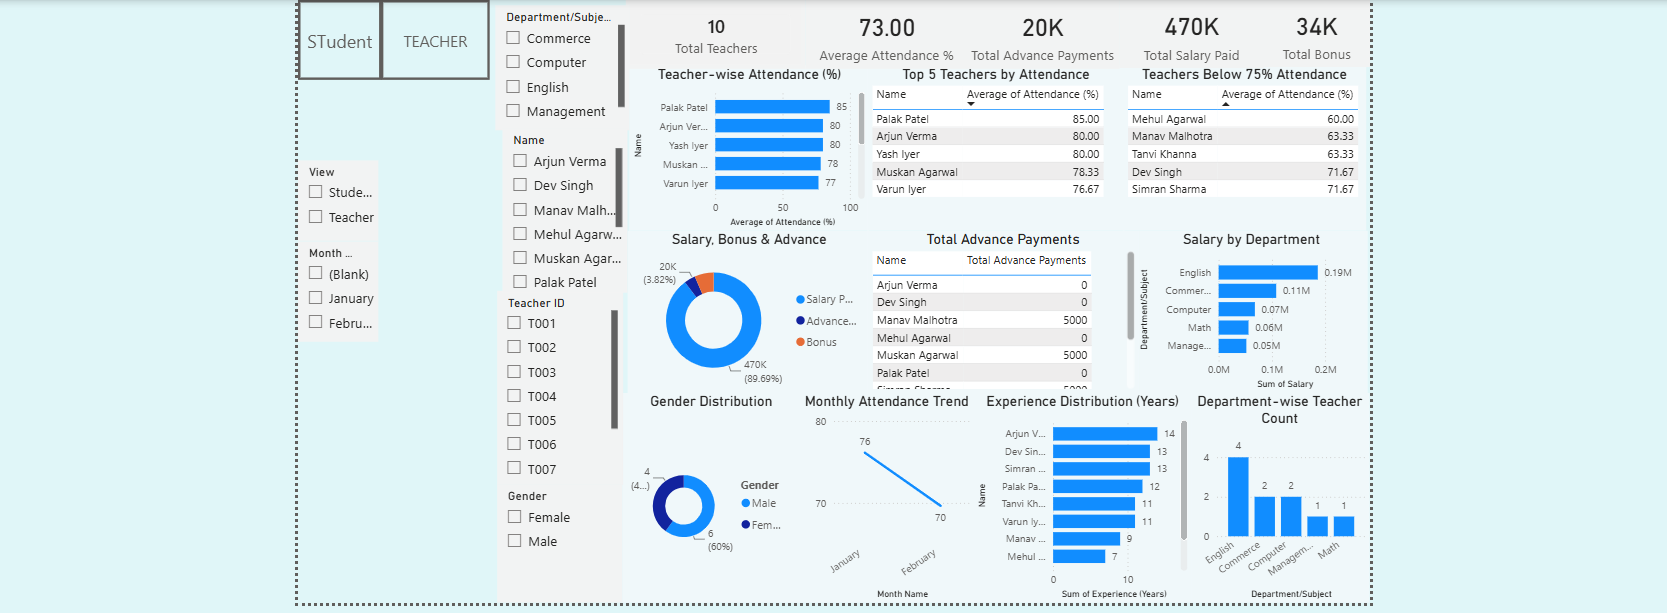

What the dashboard file says about the page in this screenshot:
{"tool":"powerbi","page":{"name":"Main dashboard","canvas":[1280,720],"ordinal":5},"visuals":[{"type":"card","fields":{"Values":["Students.Total Students Count"]},"box":[0,97,165.2,94.4],"z":0,"group":"g1"},{"type":"slicer","title":"Slicer 2","fields":{"Values":["Date.Month Name"]},"box":[0,288,96,120],"z":0},{"type":"card","fields":{"Values":["Students.Student Average Attendance %"]},"box":[165.1,95.8,182.8,95.8],"z":1000,"group":"g1"},{"type":"slicer","title":"Slicer 1","fields":{"Values":["DashboardSelector.View"]},"box":[0,192,96,96],"z":1000},{"type":"shape","box":[14.2,0,1272,96],"z":2000,"group":"g1"},{"type":"group","id":"g1","title":"student_group","box":[0,0,1286.2,720],"z":3000},{"type":"actionButton","box":[99.8,0,130.1,95.4],"z":4000},{"type":"lineChart","title":"Monthly Attendance Trend","fields":{"Category":["Date.Month Name"],"Y":["Date.Monthly Attendance %"]},"box":[398,192,350,140],"z":4000,"group":"g1"},{"type":"actionButton","box":[0,0,99.8,95.4],"z":5000},{"type":"barChart","title":"Program-wise Attendance (%)","fields":{"Category":["Students.Program"],"Y":["Avg(Students.Attendance)"]},"box":[90,194,308,138],"z":5000,"group":"g1"},{"type":"actionButton","box":[14.2,0,95.4,95.4],"z":6000,"group":"g1"},{"type":"tableEx","title":"Top 5 Students by Attendance","fields":{"Values":["Students.Name","Avg(Students.Attendance)"]},"box":[748,194,270,138],"z":7000,"group":"g1"},{"type":"tableEx","title":"Students Below 75% Attendance","fields":{"Values":["Students.Name","Avg(Students.Attendance)"]},"box":[1018,194,260,154],"z":8000,"group":"g1"},{"type":"slicer","fields":{"Values":["Students.Program"]},"box":[0,408,96,120],"z":9000,"group":"g1"},{"type":"textbox","box":[14.2,0,1272,96],"z":10000,"group":"g1"},{"type":"gauge","fields":{"Y":["Students.Total Fees Amount"],"MinValue":["Students.Total Fees Pending"]},"box":[1018,348,260,120],"z":11000,"group":"g1"},{"type":"columnChart","fields":{"Category":["Students.Program"],"Y":["Students.Fee Collection %"]},"box":[96,332,302,136],"z":12000,"group":"g1"},{"type":"lineChart","title":"Monthly Fee Collection Trend","fields":{"Y":["Sum(Fee Payment Monthly.Fees Paid Amount)"],"Category":["Date.Month Name"]},"box":[398,332,350,136],"z":13000,"group":"g1"},{"type":"tableEx","title":"Students with Pending Fees","fields":{"Values":["Students.Name","Sum(Students.Pending Fees)"]},"box":[748,332,270,136],"z":14000,"group":"g1"},{"type":"card","fields":{"Values":["Students.Total Fees Pending"]},"box":[347.9,95.8,165.4,95.8],"z":15000,"group":"g1"},{"type":"card","fields":{"Values":["Students.Total Fees Amount"]},"box":[513.3,95.8,171.2,95.8],"z":16000,"group":"g1"},{"type":"donutChart","title":"Gender Distribution","fields":{"Series":["Students.Gender"],"Y":["CountNonNull(Students.Name)"],"Category":["Students.Gender"]},"box":[90,468,228,252],"z":17000,"group":"g1"},{"type":"card","fields":{"Values":["Students.Fee Collection %"]},"box":[684.5,95.8,191.5,95.8],"z":18000,"group":"g1"},{"type":"clusteredBarChart","title":"Program-wise Student Count","fields":{"Y":["CountNonNull(Students.Name)"],"Category":["Students.Program"]},"box":[318,468,228,252],"z":19000,"group":"g1"},{"type":"donutChart","title":"Scholarship vs Non-Scholarship Students","fields":{"Y":["Students.Scholarship Students","Students.Non Scholarship Students"]},"box":[546,468,202,252],"z":20000,"group":"g1"},{"type":"slicer","fields":{"Values":["Students.Scholarship (Yes/No)"]},"box":[0,624,96,96],"z":21000,"group":"g1"},{"type":"tableEx","title":"Emergency Contact List","fields":{"Values":["Students.Name","Students.Emergency Contact Name "]},"box":[1036,468,242,252],"z":22000,"group":"g1"},{"type":"clusteredColumnChart","title":"Scholarship vs Non-Scholarship by Program","fields":{"Category":["Students.Program"],"Y":["Date.New Admissions"],"Series":["Students.Scholarship (Yes/No)"]},"box":[748,468,288,252],"z":23000,"group":"g1"},{"type":"slicer","fields":{"Values":["Students.Gender"]},"box":[0,528,96,96],"z":24000,"group":"g1"},{"type":"card","fields":{"Values":["Students.Scholarship Students"]},"box":[876.1,95.8,177,95.8],"z":25000,"group":"g1"},{"type":"card","fields":{"Values":["Students.Non Scholarship Students"]},"box":[1056.6,97,225.5,94.4],"z":26000,"group":"g1"}]}

Visuals, with their boxes on the page's 1280x720 design canvas (x1, y1, x2, y2). These are canvas units, not pixel positions in the 1667x613 screenshot, which may show the page scaled, cropped or inside an application window:
card - Students.Total Students Count: bbox=[0, 97, 165, 191]
"Slicer 2" slicer: bbox=[0, 288, 96, 408]
card - Students.Student Average Attendance %: bbox=[165, 96, 348, 192]
"Slicer 1" slicer: bbox=[0, 192, 96, 288]
shape: bbox=[14, 0, 1286, 96]
"student_group" group: bbox=[0, 0, 1286, 720]
actionButton: bbox=[100, 0, 230, 95]
"Monthly Attendance Trend" lineChart: bbox=[398, 192, 748, 332]
actionButton: bbox=[0, 0, 100, 95]
"Program-wise Attendance (%)" barChart: bbox=[90, 194, 398, 332]
actionButton: bbox=[14, 0, 110, 95]
"Top 5 Students by Attendance" tableEx: bbox=[748, 194, 1018, 332]
"Students Below 75% Attendance" tableEx: bbox=[1018, 194, 1278, 348]
slicer - Students.Program: bbox=[0, 408, 96, 528]
textbox: bbox=[14, 0, 1286, 96]
gauge - Students.Total Fees Amount x Students.Total Fees Pending: bbox=[1018, 348, 1278, 468]
columnChart - Students.Program x Students.Fee Collection %: bbox=[96, 332, 398, 468]
"Monthly Fee Collection Trend" lineChart: bbox=[398, 332, 748, 468]
"Students with Pending Fees" tableEx: bbox=[748, 332, 1018, 468]
card - Students.Total Fees Pending: bbox=[348, 96, 513, 192]
card - Students.Total Fees Amount: bbox=[513, 96, 684, 192]
"Gender Distribution" donutChart: bbox=[90, 468, 318, 720]
card - Students.Fee Collection %: bbox=[684, 96, 876, 192]
"Program-wise Student Count" clusteredBarChart: bbox=[318, 468, 546, 720]
"Scholarship vs Non-Scholarship Students" donutChart: bbox=[546, 468, 748, 720]
slicer - Students.Scholarship (Yes/No): bbox=[0, 624, 96, 720]
"Emergency Contact List" tableEx: bbox=[1036, 468, 1278, 720]
"Scholarship vs Non-Scholarship by Program" clusteredColumnChart: bbox=[748, 468, 1036, 720]
slicer - Students.Gender: bbox=[0, 528, 96, 624]
card - Students.Scholarship Students: bbox=[876, 96, 1053, 192]
card - Students.Non Scholarship Students: bbox=[1057, 97, 1282, 191]
